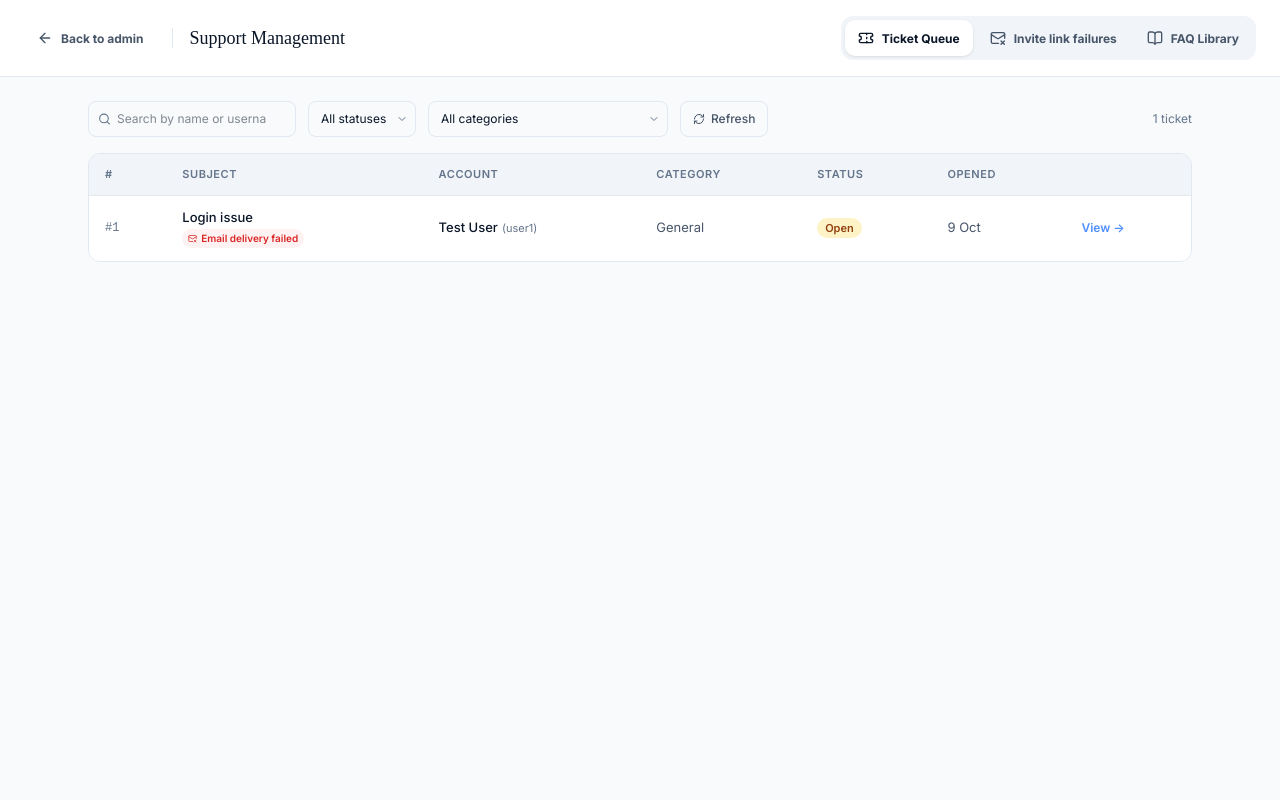
Test case: SupportAdminPage - 'Clear flag' happy path › removes the banner immediately after clicking 'Clear flag'
Click the button "View →" at (1103, 228), box [1082,219,1125,237]
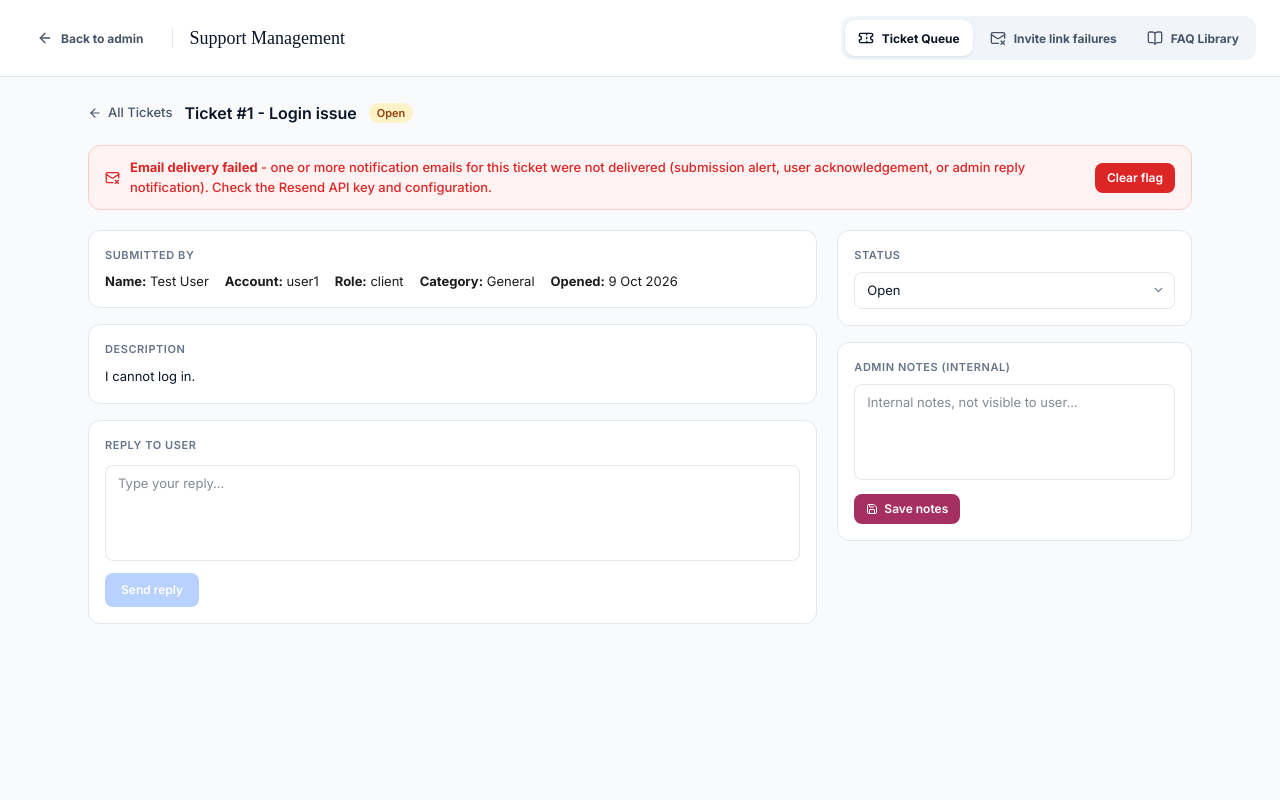
Click the button "Clear flag" at (1135, 178), box [1095,162,1175,192]
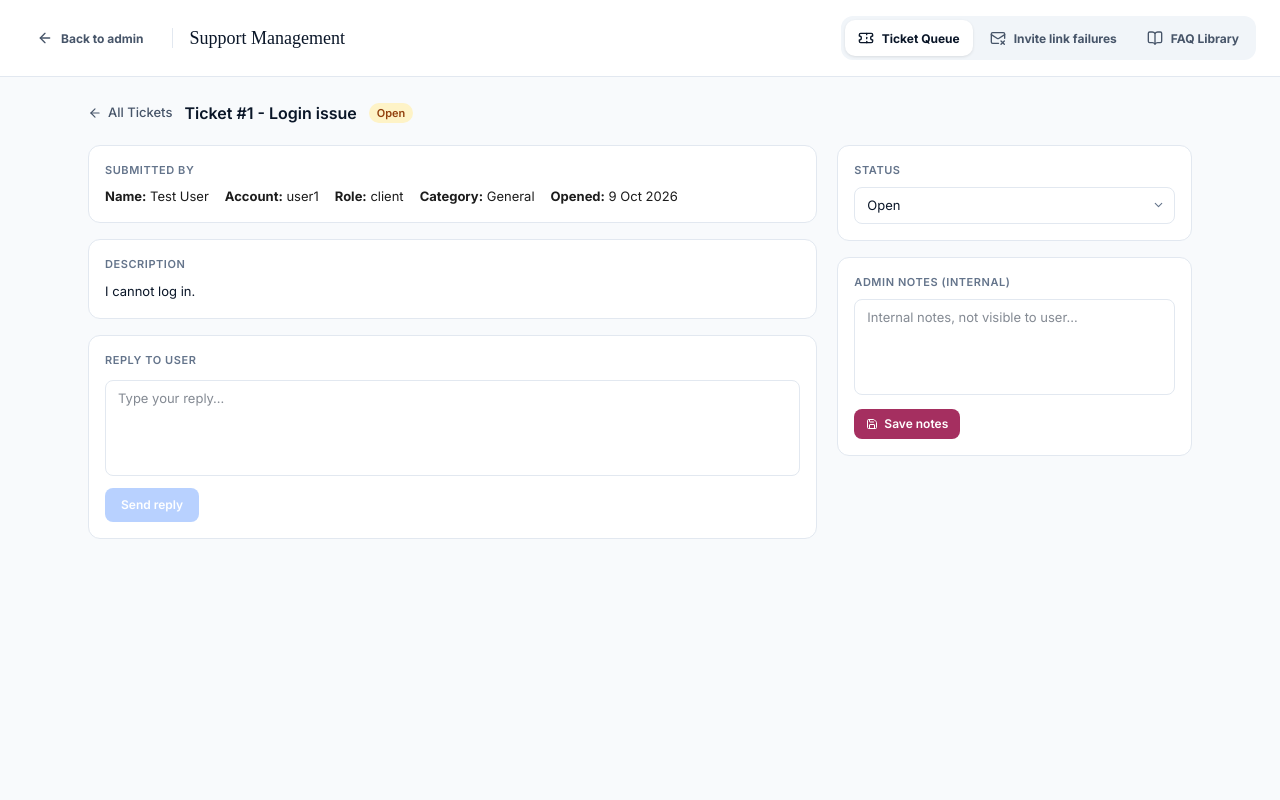
Check: the button "Clear flag" is gone
